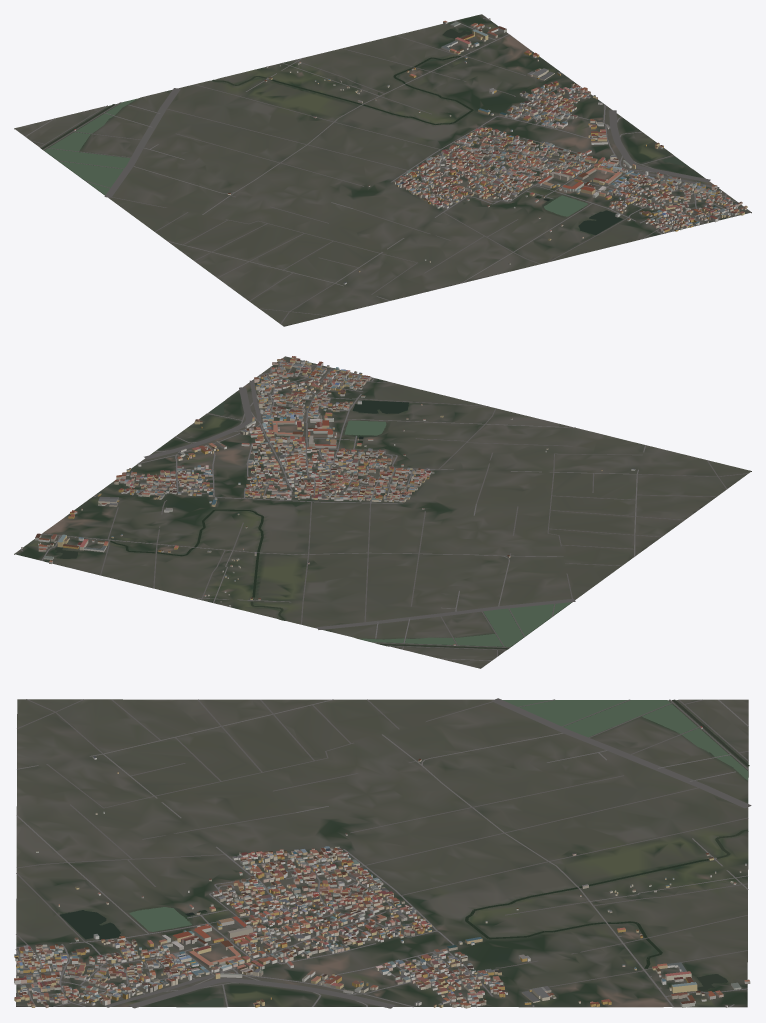
3 views of the same model, one above another, from view 1: azimuth 30°, elevation 25°; view 2: azimuth 150°, elevation 25°; view 3: azimuth 270°, elevation 25° (orthographic). The views are drawn at different scales.
Parts seen in each view (by area): view 1: ground, buildings, roads, water; view 2: ground, buildings, roads, water; view 3: ground, buildings, roads, water.
Part boxes in pixels (bbox=[...]): ground: bbox=[14, 14, 751, 326]; buildings: bbox=[74, 18, 747, 284]; roads: bbox=[25, 18, 739, 324]; water: bbox=[41, 29, 690, 234]; ground: bbox=[14, 356, 751, 668]; buildings: bbox=[21, 356, 635, 645]; roads: bbox=[20, 361, 748, 660]; water: bbox=[55, 400, 571, 649]; ground: bbox=[16, 699, 748, 1007]; buildings: bbox=[14, 726, 750, 1008]; roads: bbox=[15, 698, 751, 1008]; water: bbox=[60, 699, 749, 1006].
Size of the model in its own units: 1412 by 19.1 by 1414.
